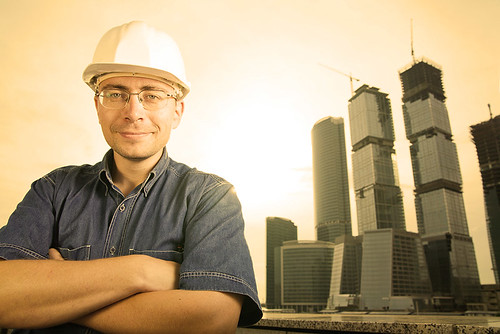person hardhat: (5, 22, 246, 332)
